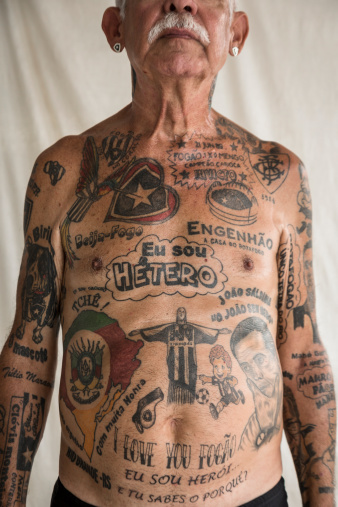em pe: (34, 0, 325, 507)
